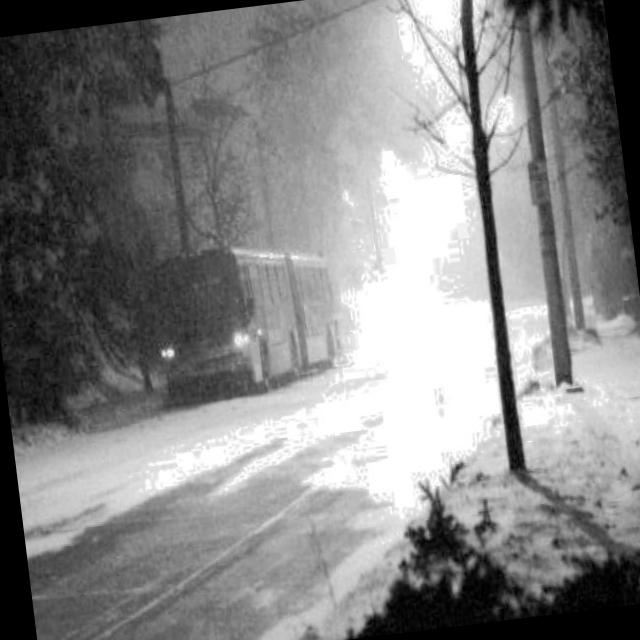Bus: (122, 177, 357, 437)
